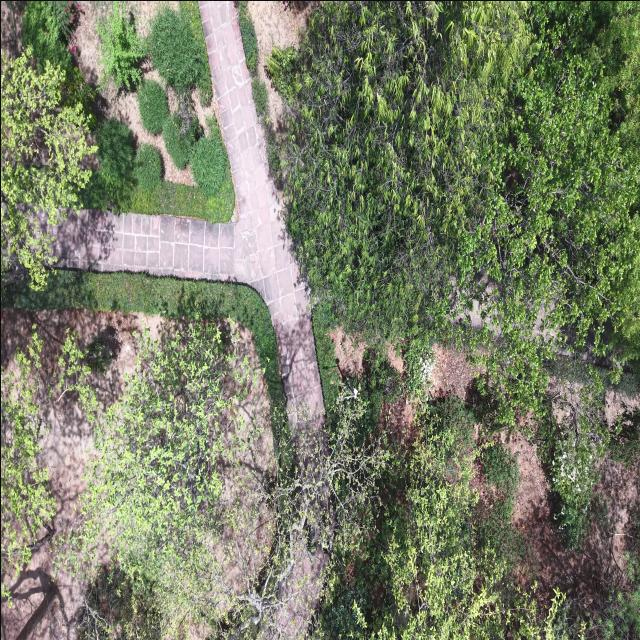DRY_AREA: (1, 309, 183, 639), (51, 200, 323, 414), (200, 1, 322, 415), (200, 1, 322, 413), (1, 395, 93, 639), (74, 1, 195, 185)
PATHWAYS: (53, 1, 323, 422), (53, 1, 322, 413)
VEGETATION_TREE: (1, 1, 639, 639), (3, 272, 583, 639), (269, 1, 639, 422), (82, 322, 507, 637), (312, 305, 638, 639), (67, 321, 385, 637), (73, 323, 387, 638), (269, 1, 531, 334), (3, 271, 287, 571), (1, 271, 288, 562), (312, 346, 556, 639), (313, 398, 555, 639), (77, 323, 265, 632), (495, 4, 639, 373), (1, 270, 284, 443), (23, 1, 234, 221), (215, 389, 387, 639), (357, 399, 536, 639), (529, 3, 639, 376), (468, 356, 639, 555), (1, 1, 96, 287), (520, 356, 639, 553), (1, 327, 91, 580), (1, 49, 95, 288), (526, 357, 639, 550), (98, 1, 212, 169), (139, 7, 229, 199), (82, 119, 235, 222), (82, 119, 234, 222), (538, 360, 609, 548), (1, 333, 55, 577), (557, 507, 639, 639), (22, 1, 96, 130), (147, 1, 212, 134), (236, 1, 279, 181), (147, 1, 212, 105), (475, 439, 524, 573), (77, 566, 163, 639), (149, 7, 211, 101), (130, 172, 235, 222), (599, 509, 639, 639), (83, 118, 134, 212), (22, 1, 82, 74), (98, 1, 146, 90), (179, 1, 213, 105), (22, 1, 71, 72), (190, 120, 228, 197), (480, 441, 519, 514), (97, 119, 134, 190), (62, 67, 98, 131), (402, 338, 435, 400), (163, 114, 200, 169), (609, 408, 639, 465), (137, 81, 169, 134), (236, 1, 258, 77), (84, 330, 119, 374), (133, 144, 161, 192), (52, 1, 83, 39), (4, 1, 23, 56), (253, 78, 269, 120)
